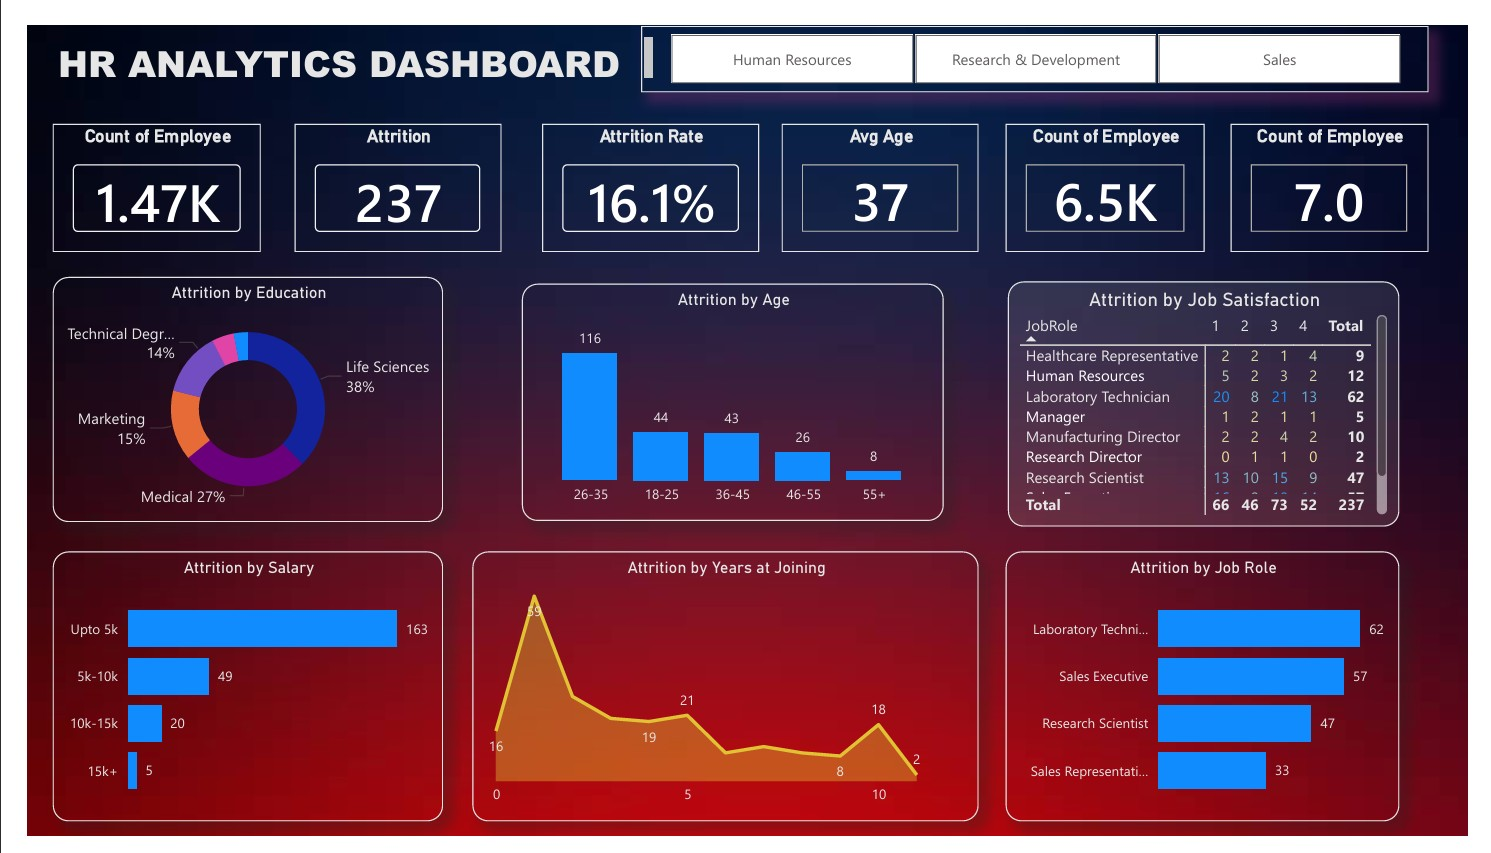

Layout of this report page (visuals, bound fields, positions):
{"tool":"powerbi","page":{"name":"Page 1","canvas":[1280,720],"ordinal":0},"visuals":[{"type":"cardVisual","title":"Count of Employee","fields":{"Data":["CountNonNull(HR_Analytics.EmpID)"]},"box":[22,86.7,185.2,113.9],"z":0},{"type":"cardVisual","title":"Attrition","fields":{"Data":["Sum(HR_Analytics.AttritionCount)"]},"box":[237.4,86.7,183.9,113.9],"z":1000},{"type":"cardVisual","title":"Attrition Rate","fields":{"Data":["HR_Analytics.AttritionRate"]},"box":[456.9,86.7,193.5,113.9],"z":2000},{"type":"cardVisual","title":"Avg Age","fields":{"Data":["Avg(HR_Analytics.Age)"]},"box":[669.6,86.7,175.6,113.9],"z":3000},{"type":"cardVisual","title":"Count of Employee","fields":{"Data":["Avg(HR_Analytics.MonthlyIncome)"]},"box":[868.6,86.7,177,113.9],"z":4000},{"type":"cardVisual","title":"Count of Employee","fields":{"Data":["Avg(HR_Analytics.YearsAtCompany)"]},"box":[1069,86.7,175.6,113.9],"z":5000},{"type":"donutChart","title":"Attrition by Education","fields":{"Category":["HR_Analytics.EducationField"],"Y":["Sum(HR_Analytics.AttritionCount)"]},"box":[22,222.8,347.2,218.2],"z":6000},{"type":"columnChart","title":"Attrition by Age","fields":{"Category":["HR_Analytics.AgeGroup"],"Y":["Sum(HR_Analytics.AttritionCount)"]},"box":[439.1,229.2,374.6,211.3],"z":7000},{"type":"pivotTable","title":"Attrition by Job Satisfaction","fields":{"Rows":["HR_Analytics.JobRole"],"Columns":["HR_Analytics.JobSatisfaction"],"Values":["Sum(HR_Analytics.AttritionCount)"]},"box":[871.4,227,347.2,218.2],"z":8000},{"type":"barChart","title":"Attrition by Salary","fields":{"Category":["HR_Analytics.SalarySlab"],"Y":["Sum(HR_Analytics.AttritionCount)"]},"box":[22,466.6,347.2,240.1],"z":9000},{"type":"barChart","title":"Attrition by Job Role","fields":{"Category":["HR_Analytics.JobRole"],"Y":["Sum(HR_Analytics.AttritionCount)"]},"box":[868.6,466.6,349.9,240.1],"z":10000},{"type":"areaChart","title":"Attrition by Years at Joining","fields":{"Category":["HR_Analytics.YearsAtCompany"],"Y":["Sum(HR_Analytics.AttritionCount)"]},"box":[395.2,466.6,450.1,240.1],"z":11000},{"type":"slicer","fields":{"Values":["HR_Analytics.Department"]},"box":[544.8,0,699.8,59],"z":11001},{"type":"textbox","box":[22,5.5,539.3,49.4],"z":11002}]}

Visuals, with their boxes in screenshot pixels (x1, y1, x2, y2), scaled from the page's 1280x720 canvas onto the 1491x853 screenshot:
"Count of Employee" cardVisual: <box>26,103,241,238</box>
"Attrition" cardVisual: <box>277,103,491,238</box>
"Attrition Rate" cardVisual: <box>532,103,758,238</box>
"Avg Age" cardVisual: <box>780,103,985,238</box>
"Count of Employee" cardVisual: <box>1012,103,1218,238</box>
"Count of Employee" cardVisual: <box>1245,103,1450,238</box>
"Attrition by Education" donutChart: <box>26,264,430,522</box>
"Attrition by Age" columnChart: <box>511,272,948,522</box>
"Attrition by Job Satisfaction" pivotTable: <box>1015,269,1419,527</box>
"Attrition by Salary" barChart: <box>26,553,430,837</box>
"Attrition by Job Role" barChart: <box>1012,553,1419,837</box>
"Attrition by Years at Joining" areaChart: <box>460,553,985,837</box>
slicer - HR_Analytics.Department: <box>635,0,1450,70</box>
textbox: <box>26,7,654,65</box>
